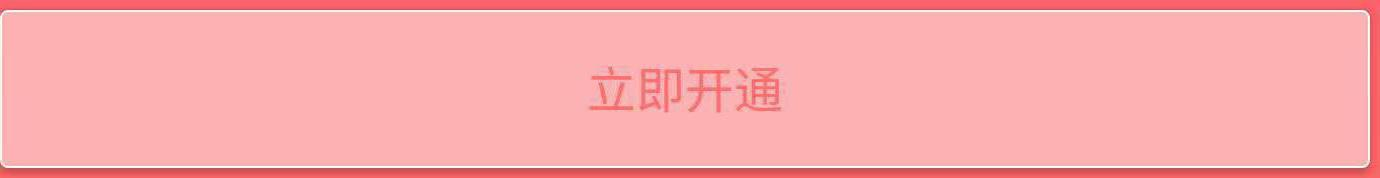Button: (1, 1, 1379, 177)
